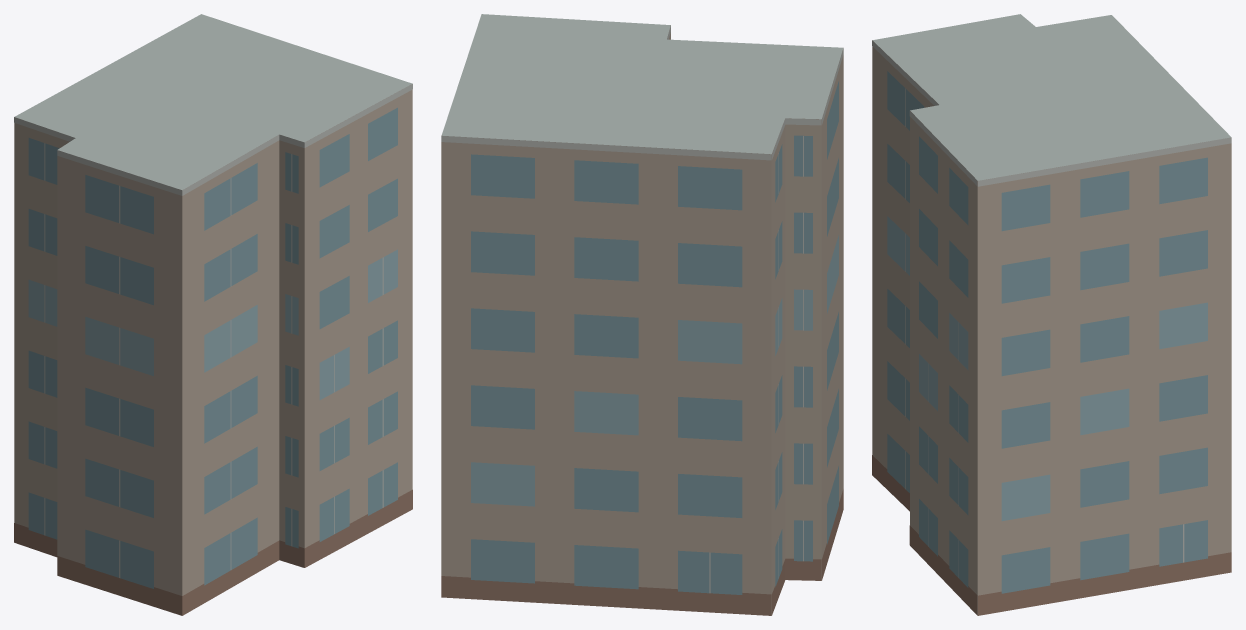
Rendered from survey-upis-32860454.glb.
3 renders of one model, left to right at view 1: azimuth 30°, elevation 25°; view 2: azimuth 150°, elevation 25°; view 3: azimuth 270°, elevation 25°, orthographic. The views are drawn at different scales.
Parts seen in each view (by area): view 1: survey-upis-32860454.tmp; view 2: survey-upis-32860454.tmp; view 3: survey-upis-32860454.tmp.
Boxes of the visible parts, x1,y1,x2,y2 form: survey-upis-32860454.tmp: (14,14,412,615); survey-upis-32860454.tmp: (441,14,843,615); survey-upis-32860454.tmp: (872,14,1231,615).
Size of the model in its own units: 14.82 by 18 by 13.49.
